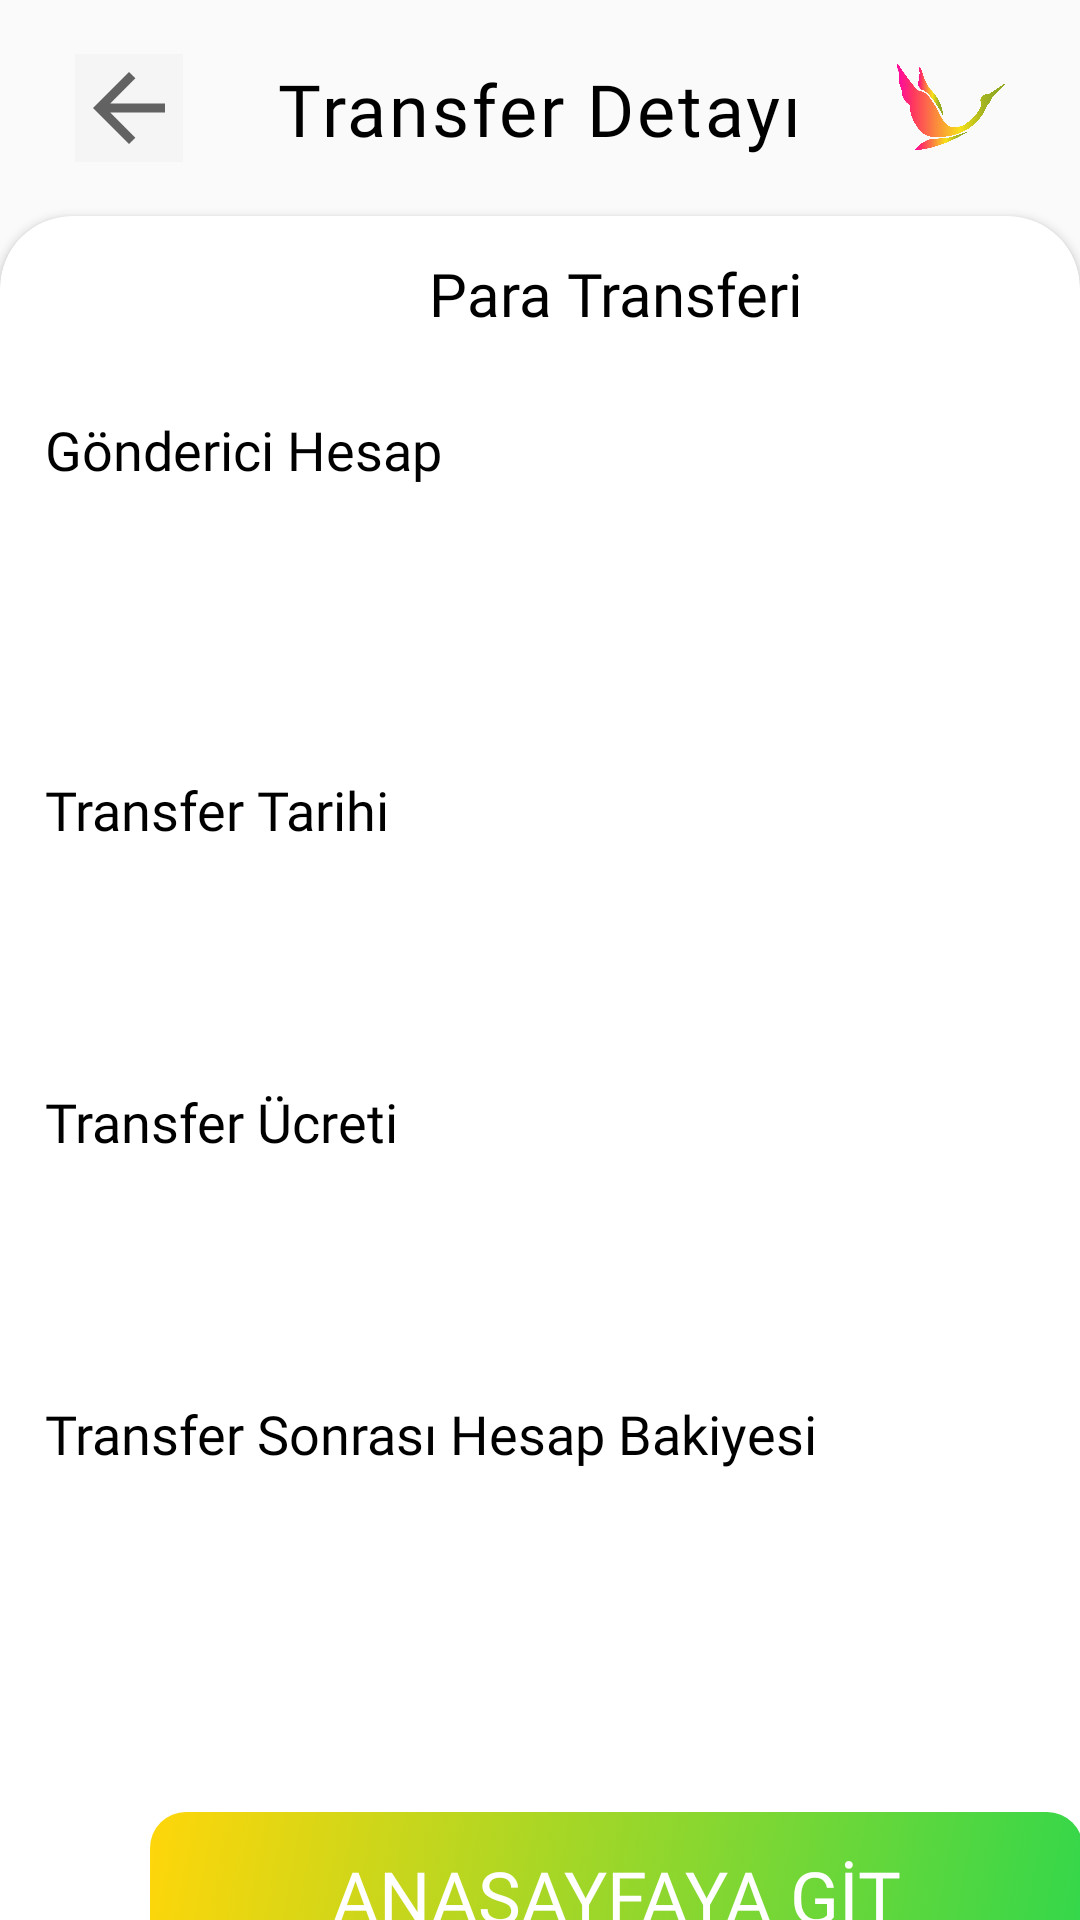

Screen size 1080×1920. Icon name, then its box in pixels as [x1, y1, x2, y2]:
back: [93, 72, 165, 144]
stork: [897, 64, 1005, 150]
